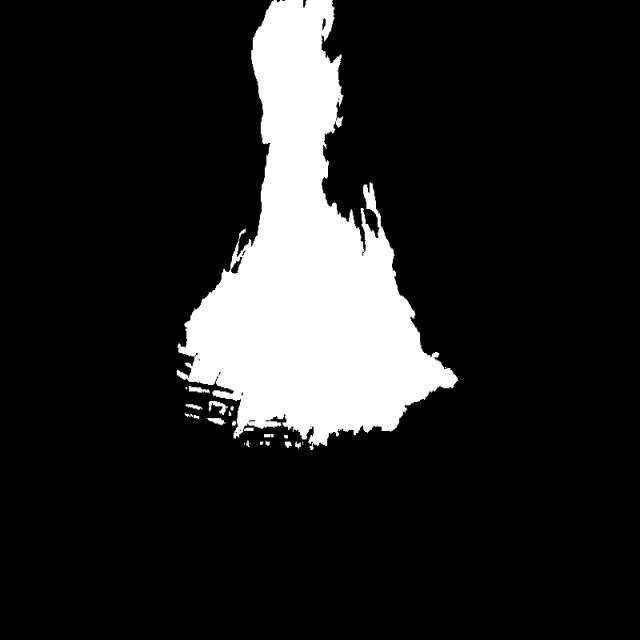fire: (177, 8, 530, 489)
